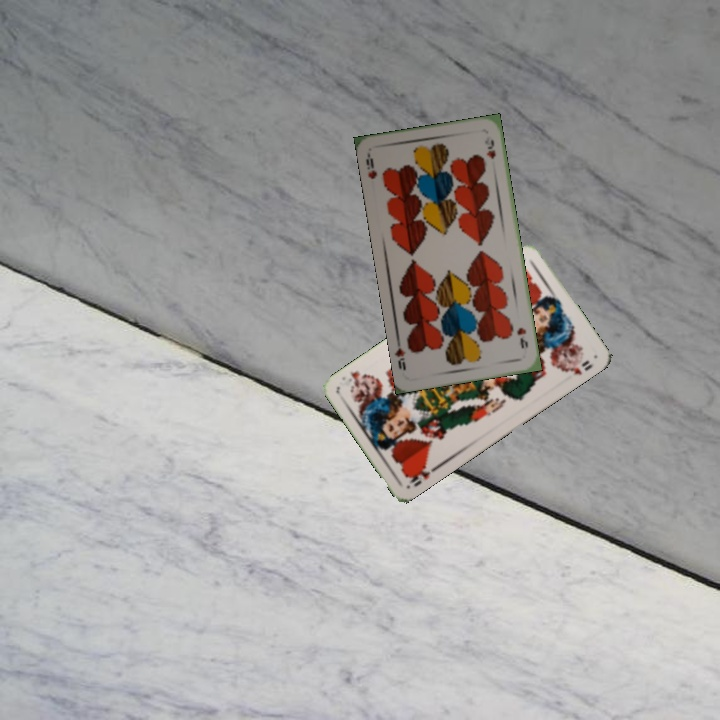H9: (362, 150, 380, 181), (513, 324, 531, 352)
HO: (402, 460, 441, 490)
